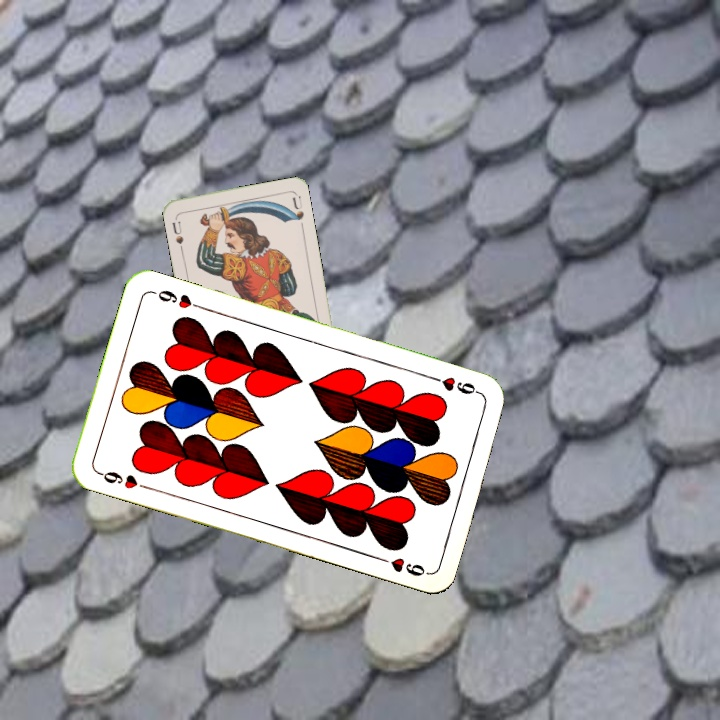H9: (426, 371, 484, 397), (94, 467, 152, 492)
SU: (168, 213, 186, 253)
